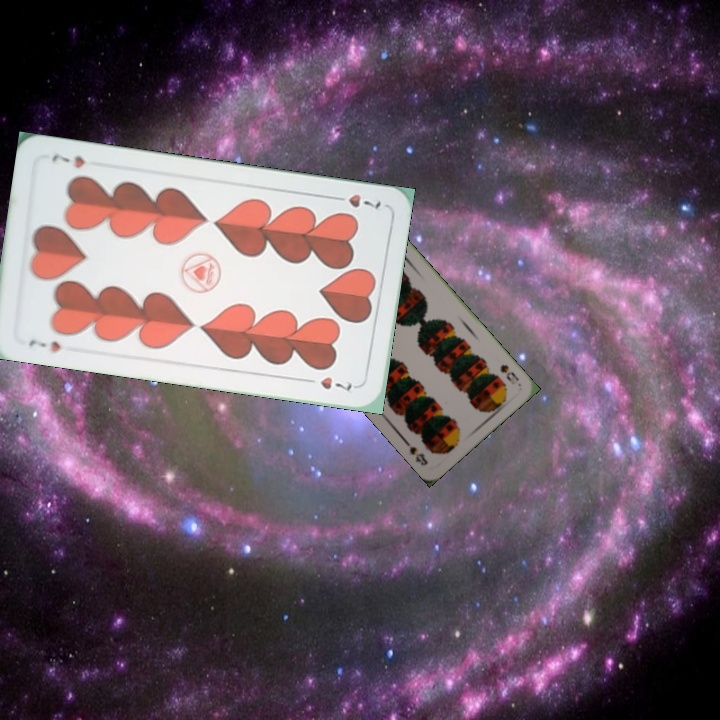H7: (327, 190, 384, 212), (24, 335, 64, 356)
S8: (496, 360, 522, 384)
